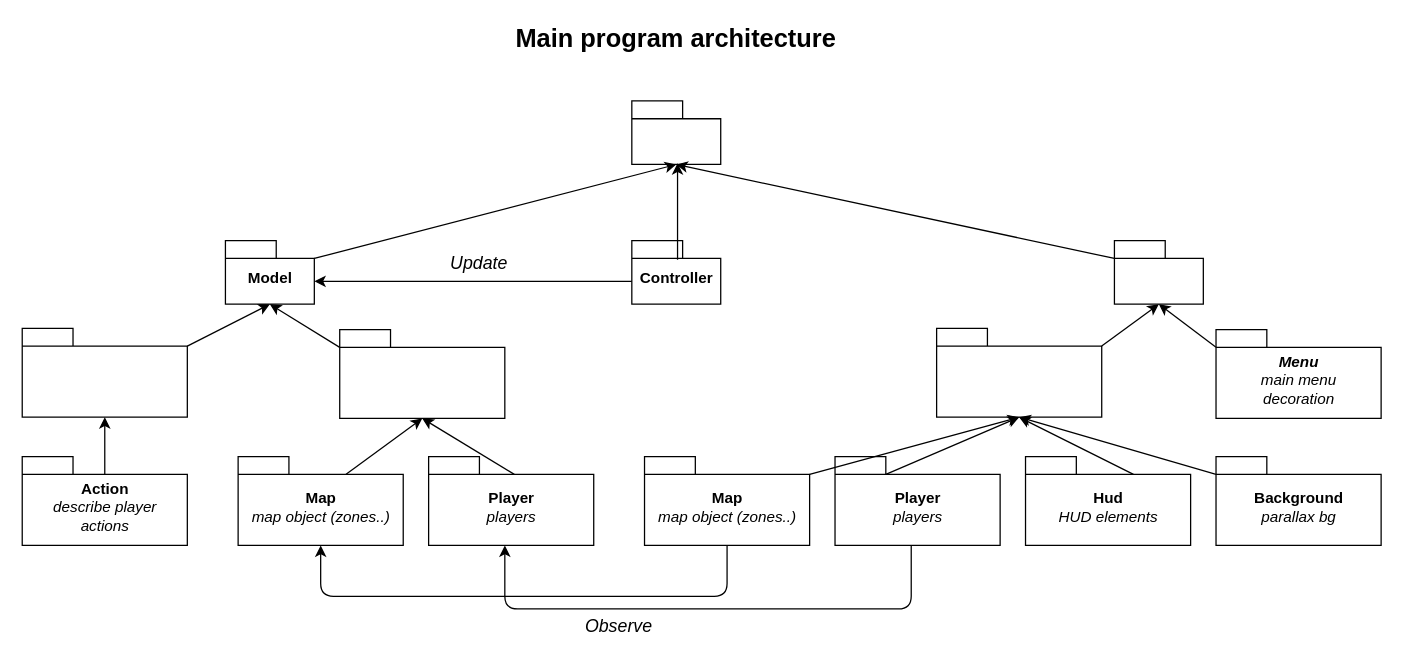
Some shapes in this 1403 by 660 pixel diagram are drawn without their labels. Each missing label, with the centre of its shape:
"Game game objects" belongs at [1018,372].
"Logic game objects" belongs at [421,373].
"Node.io" belongs at [676,132].
"RabbitMQ core functions for communication" belongs at [104,372].
"View" belongs at [1158,271].
